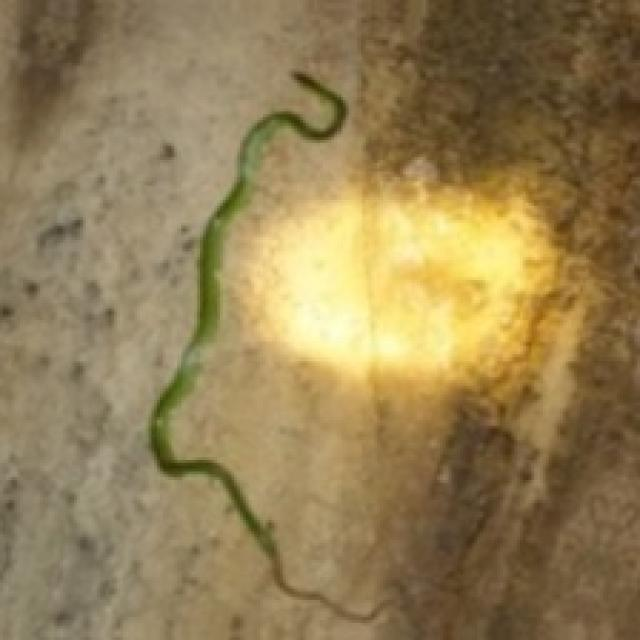red-tailed green ratsnake: (149, 71, 383, 620)
